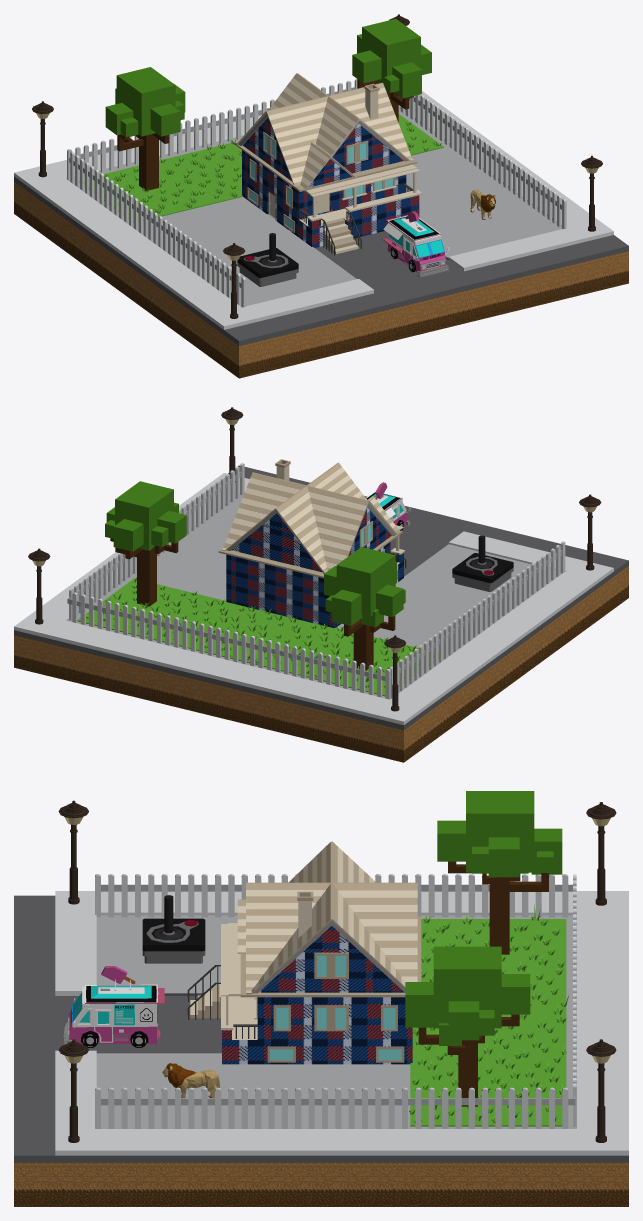
3 renders of one model, top to bottom at view 1: azimuth 30°, elevation 25°; view 2: azimuth 150°, elevation 25°; view 3: azimuth 270°, elevation 25°, orthographic. The views are drawn at different scales.
Parts seen in each view (by area): view 1: Cube.004, Cube.171, VEHICLES_ICE_CREAM_TRUCK, OBJRANDOM_JOYSTICK, ANIMAL_LEON; view 2: Cube.004, Cube.171, OBJRANDOM_JOYSTICK, VEHICLES_ICE_CREAM_TRUCK; view 3: Cube.004, Cube.171, VEHICLES_ICE_CREAM_TRUCK, OBJRANDOM_JOYSTICK, ANIMAL_LEON.
Part boxes in pixels (<box>): Cube.004: <box>14,14,628,378</box>; Cube.171: <box>233,73,422,255</box>; VEHICLES_ICE_CREAM_TRUCK: <box>382,211,449,277</box>; OBJRANDOM_JOYSTICK: <box>237,233,298,286</box>; ANIMAL_LEON: <box>470,189,495,219</box>; Cube.004: <box>14,407,628,762</box>; Cube.171: <box>218,459,406,627</box>; OBJRANDOM_JOYSTICK: <box>452,535,513,591</box>; VEHICLES_ICE_CREAM_TRUCK: <box>366,482,410,530</box>; Cube.004: <box>14,791,628,1206</box>; Cube.171: <box>187,841,421,1064</box>; VEHICLES_ICE_CREAM_TRUCK: <box>63,966,164,1047</box>; OBJRANDOM_JOYSTICK: <box>142,895,205,963</box>; ANIMAL_LEON: <box>162,1062,219,1098</box>.
Size of the model in its own units: 4000 by 1579 by 4000.
Materials: 46 (4 with a texture image).
